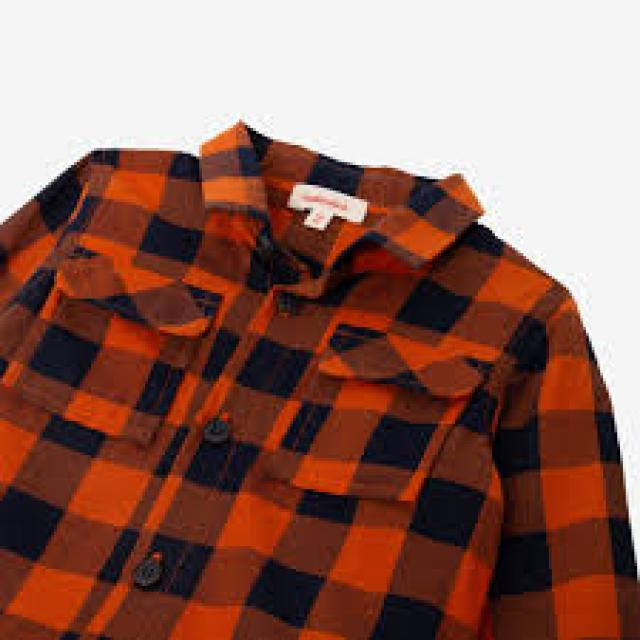plaid: (0, 127, 640, 640)
